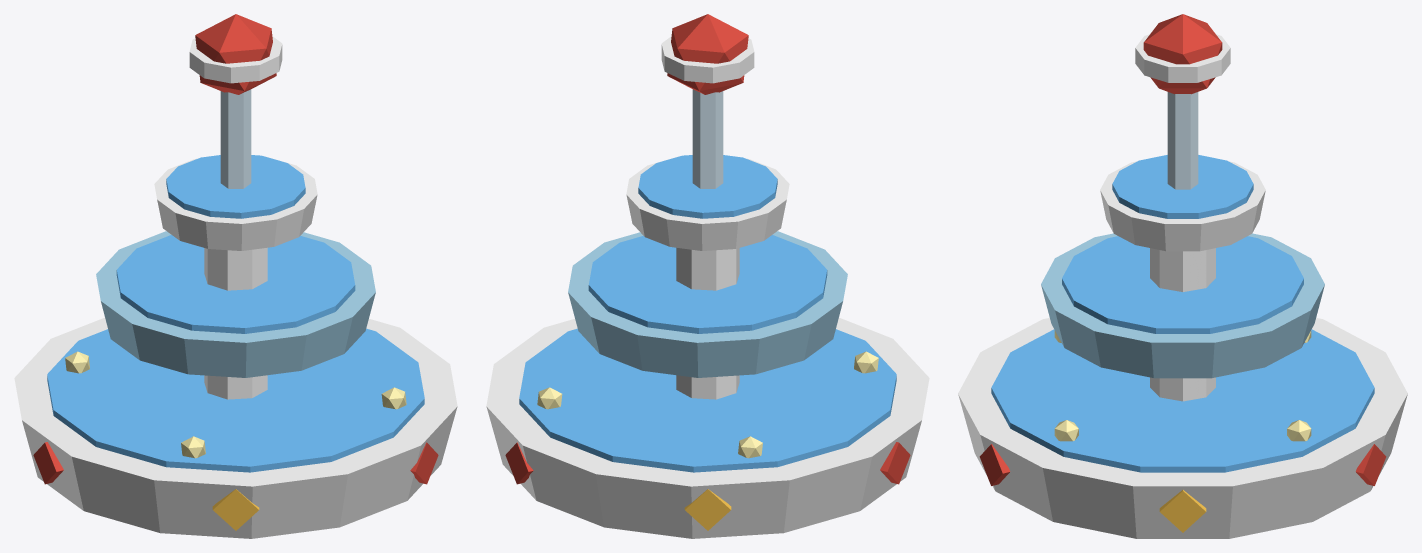
The model's file is CatCafe_Decor_SplashFountain.glb.
3 views of the same model, side by side, from view 1: azimuth 30°, elevation 25°; view 2: azimuth 150°, elevation 25°; view 3: azimuth 270°, elevation 25° (orthographic).
Visible parts, largest first — view 1: CatCafe_Decor_SplashFountain, CatCafe_Decor_SplashFountain_Water, CatCafe_Decor_SplashFountain_Glow; view 2: CatCafe_Decor_SplashFountain, CatCafe_Decor_SplashFountain_Water, CatCafe_Decor_SplashFountain_Glow; view 3: CatCafe_Decor_SplashFountain, CatCafe_Decor_SplashFountain_Water, CatCafe_Decor_SplashFountain_Glow.
Boxes of the visible parts, bbox=[...] form: CatCafe_Decor_SplashFountain: bbox=[14, 14, 457, 538]; CatCafe_Decor_SplashFountain_Water: bbox=[47, 89, 424, 472]; CatCafe_Decor_SplashFountain_Glow: bbox=[65, 351, 406, 458]; CatCafe_Decor_SplashFountain: bbox=[486, 14, 929, 538]; CatCafe_Decor_SplashFountain_Water: bbox=[519, 89, 896, 472]; CatCafe_Decor_SplashFountain_Glow: bbox=[537, 351, 878, 458]; CatCafe_Decor_SplashFountain: bbox=[958, 14, 1407, 538]; CatCafe_Decor_SplashFountain_Water: bbox=[991, 92, 1374, 472]; CatCafe_Decor_SplashFountain_Glow: bbox=[1054, 330, 1311, 441].
Bounding box in the file's own units: 4.04 × 4.42 × 4.1.
1 material, 1 textured.
